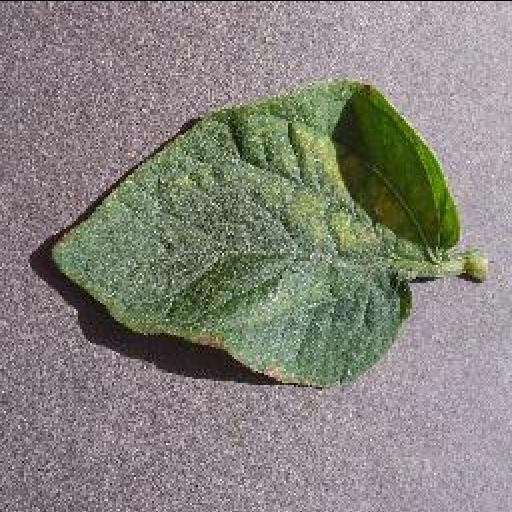disease_tomato: (51, 82, 461, 380)
